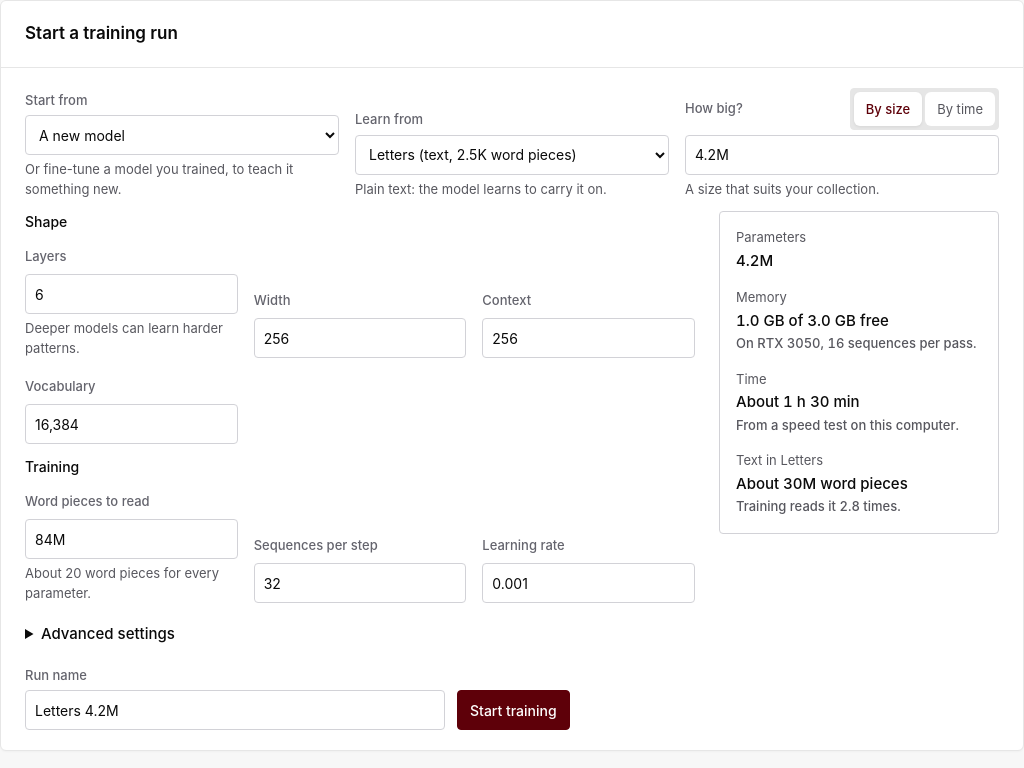
it: marks a number you change, sends only that, and hands it back on undo
Replace the text in the field labelled "Layers" with "12" at (131, 294), box x1=25 y1=274 x2=238 y2=314
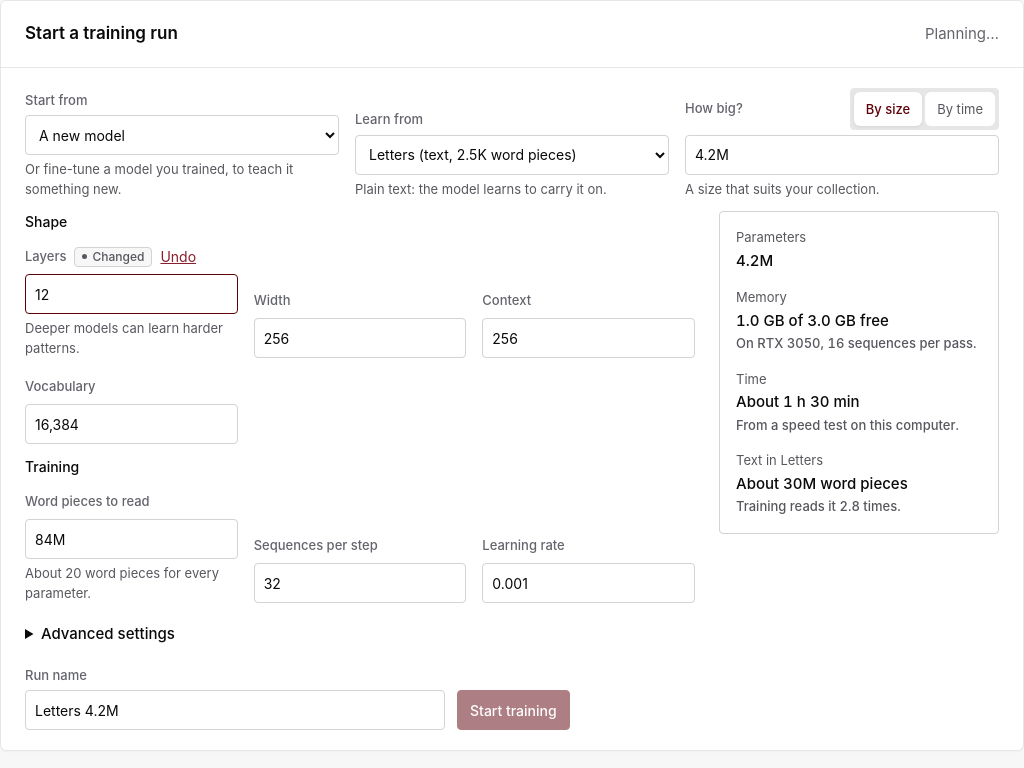
Now the text "Changed" is shown, box x1=74 y1=246 x2=152 y2=266
Click the button with aria-label "Undo Layers" at (178, 256), box x1=160 y1=246 x2=196 y2=267
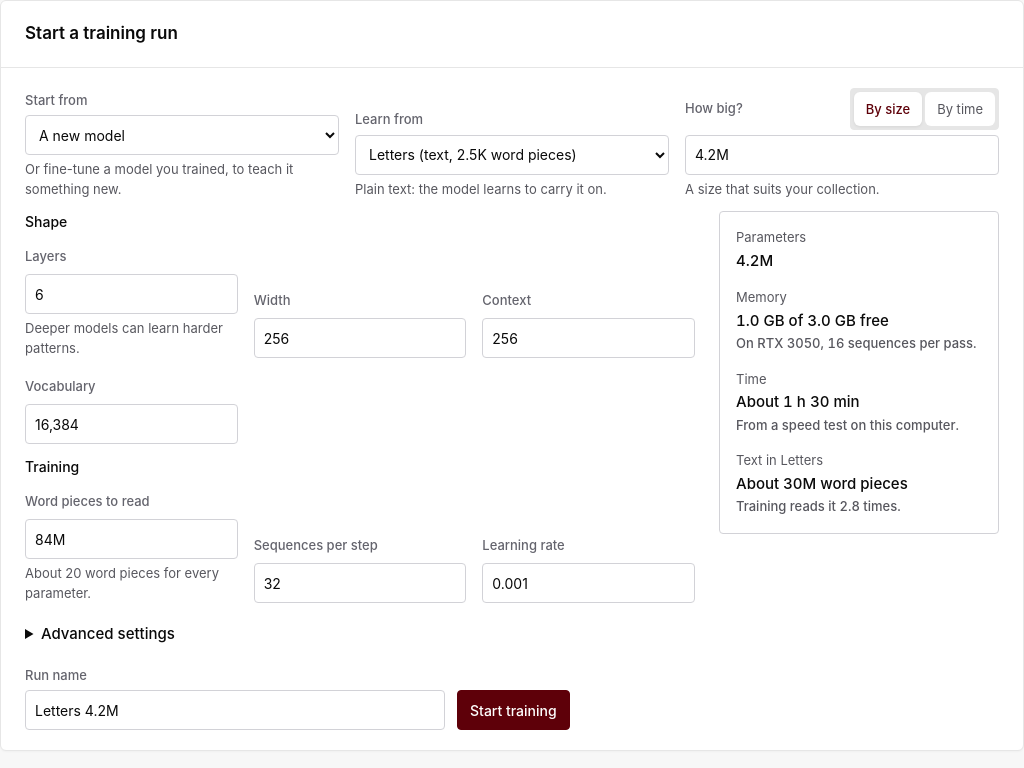
Now the text "Changed" is gone
